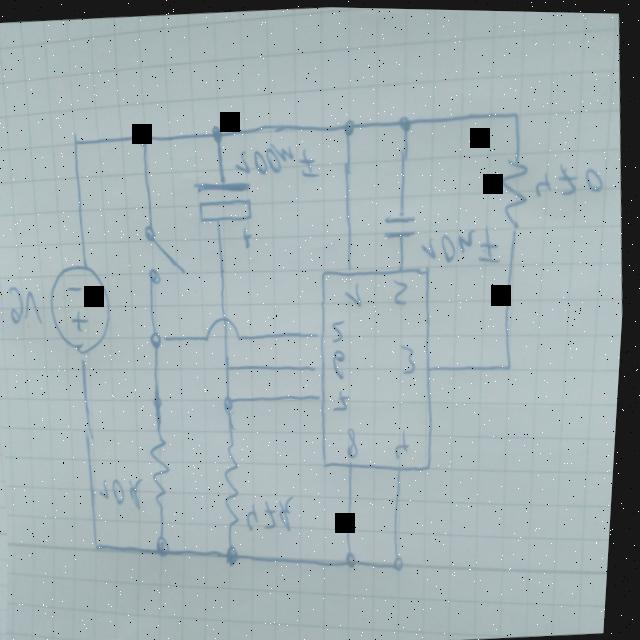capacitor: (190, 174, 257, 228), (381, 210, 420, 238)
crossover: (203, 311, 249, 345)
junction: (154, 526, 182, 560), (222, 536, 250, 569), (204, 114, 231, 147), (94, 527, 119, 556), (220, 350, 245, 379), (65, 129, 89, 158), (146, 325, 170, 353), (220, 387, 243, 416), (391, 108, 414, 136), (500, 347, 523, 374), (150, 382, 172, 410), (337, 112, 359, 139), (392, 549, 414, 575), (132, 125, 153, 152), (347, 545, 365, 568), (505, 102, 523, 125)
resistor: (498, 143, 538, 238), (219, 431, 254, 532), (147, 428, 182, 511)
source: (47, 260, 119, 358)
switch: (141, 219, 191, 285)
text: (232, 132, 326, 184), (533, 155, 608, 202), (421, 224, 504, 266), (247, 488, 307, 534), (98, 469, 152, 513), (4, 281, 49, 329), (396, 425, 416, 457), (401, 340, 420, 372), (345, 278, 366, 306), (333, 346, 351, 378), (393, 274, 412, 303), (349, 424, 364, 457), (335, 386, 355, 410), (332, 316, 350, 341)
